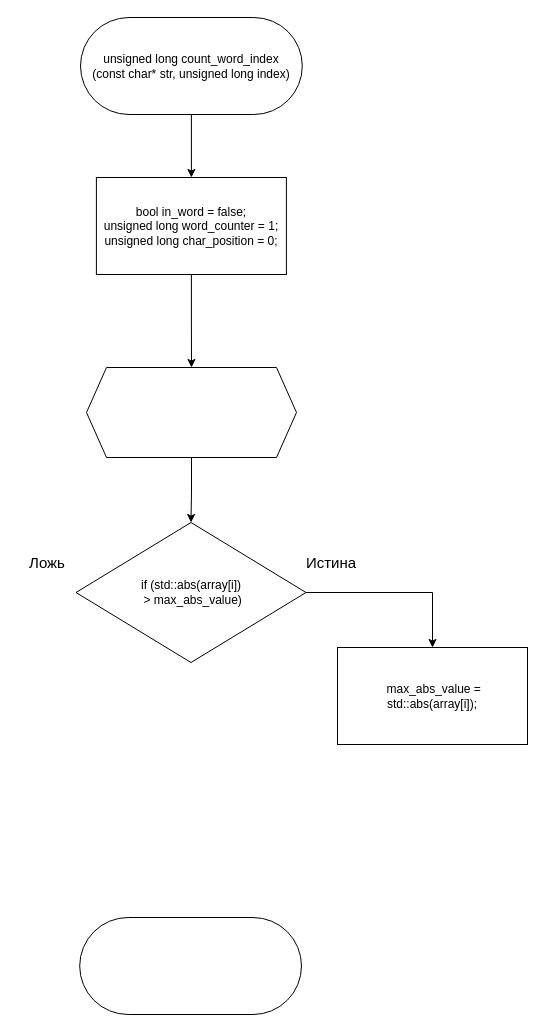
Image size: 545x1032. Some labels were removed from this diagram. The centre of each missing label's shape, as x and y in pixels:
for (unsigned int i = 0; i < array_size; ++i): (191,412)
return max_abs_value;: (190,965)
